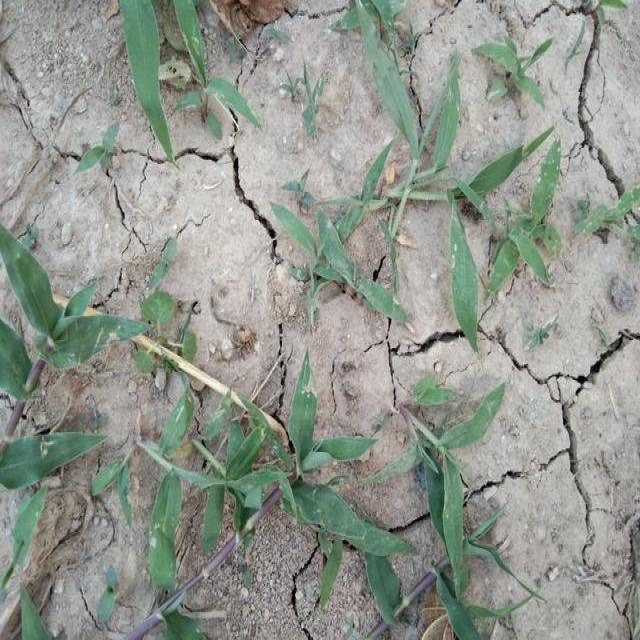weed: (88, 359, 416, 636), (332, 0, 536, 330), (0, 251, 127, 640), (378, 377, 540, 640), (242, 164, 449, 318), (337, 0, 475, 171), (457, 144, 572, 311), (111, 8, 246, 132), (482, 36, 562, 109), (266, 52, 334, 129), (62, 123, 111, 171)
